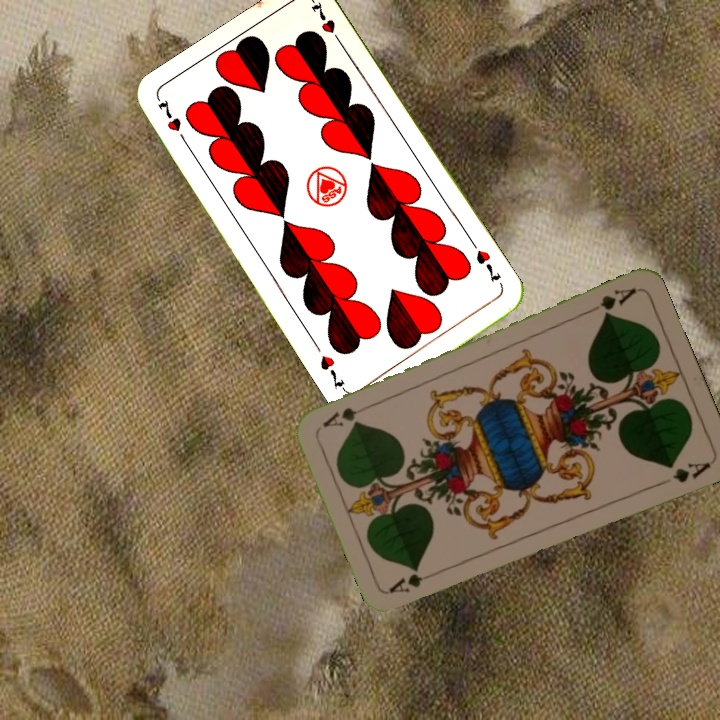GA: (584, 284, 639, 319), (386, 566, 443, 596)
H7: (154, 95, 191, 149), (471, 246, 504, 286)
